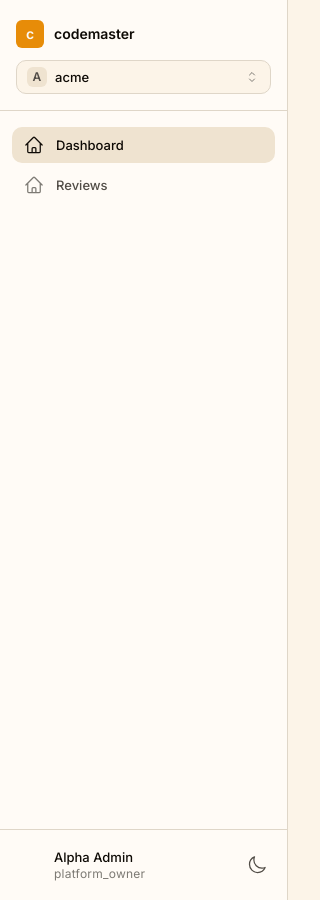
SidebarShell › opens the user menu and reveals the user-nav items
The width and height of the screenshot is (320, 900).
Click the button named "open user menu": (122, 865) [12,842,231,888]
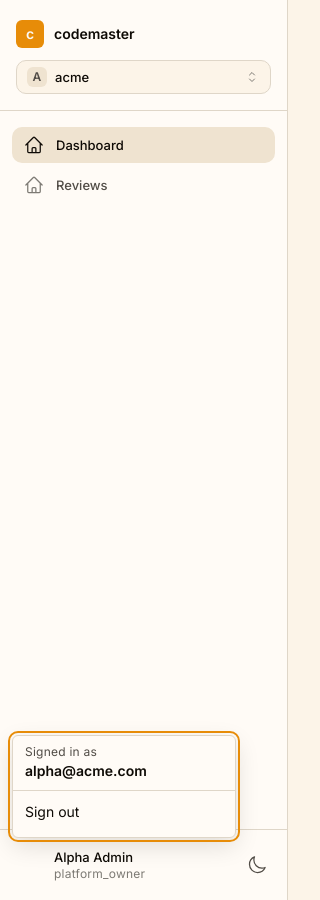
expect the text "platform_owner" is shown: met, box [54,866,145,881]
expect the menu item "Sign out" is shown: met, box [25,803,79,820]
expect the text "alpha@acme.com" is shown: met, box [25,762,147,779]
